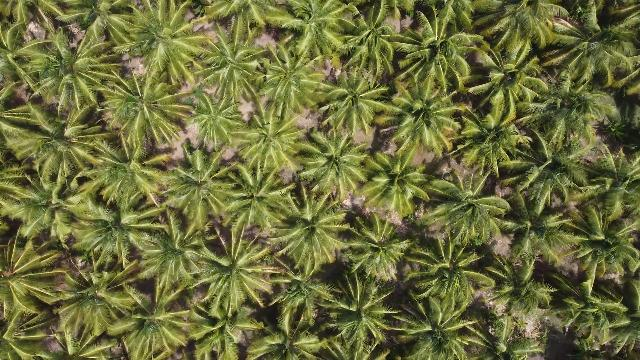trees: (7, 18, 115, 122), (39, 258, 149, 358), (5, 103, 110, 191), (539, 6, 639, 98), (513, 75, 613, 163), (110, 3, 210, 85), (262, 260, 346, 357), (394, 7, 478, 99), (315, 271, 403, 358), (102, 71, 193, 155), (75, 134, 168, 215), (421, 171, 511, 254), (227, 99, 312, 186), (550, 274, 637, 358), (197, 23, 277, 114), (382, 83, 466, 169), (133, 211, 215, 299), (67, 194, 153, 275), (5, 168, 88, 251), (268, 192, 350, 276), (454, 95, 534, 181), (221, 155, 300, 242), (561, 201, 640, 287), (499, 188, 579, 271), (159, 149, 238, 233), (254, 42, 329, 127), (393, 293, 483, 360), (317, 69, 395, 143), (473, 1, 565, 63), (484, 253, 561, 326), (334, 4, 406, 82), (2, 242, 69, 325), (343, 214, 418, 288), (273, 3, 356, 69), (358, 152, 432, 225), (186, 294, 267, 360), (299, 131, 372, 203), (468, 49, 545, 112), (206, 3, 289, 44), (59, 1, 125, 37)
